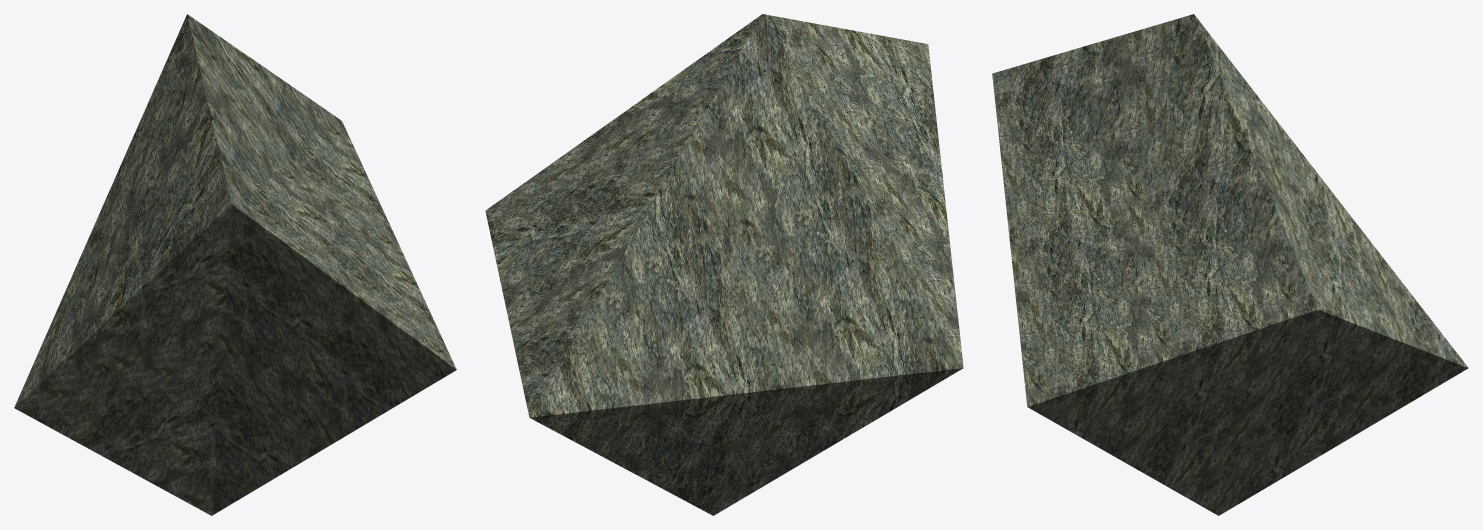
File: mtns_rock_grey_a5_l3.fbx
3 views of the same model, side by side, from view 1: azimuth 30°, elevation 25°; view 2: azimuth 150°, elevation 25°; view 3: azimuth 270°, elevation 25° (orthographic). The views are drawn at different scales.
Visible parts, largest first — view 1: mesh_node; view 2: mesh_node; view 3: mesh_node.
Boxes of the visible parts, x1,y1,x2,y2 form: mesh_node: (14,14,456,515); mesh_node: (485,14,963,515); mesh_node: (992,14,1468,515).
Bounding box in the file's own units: 1.48 × 1.78 × 1.59.
1 material, 1 textured.
